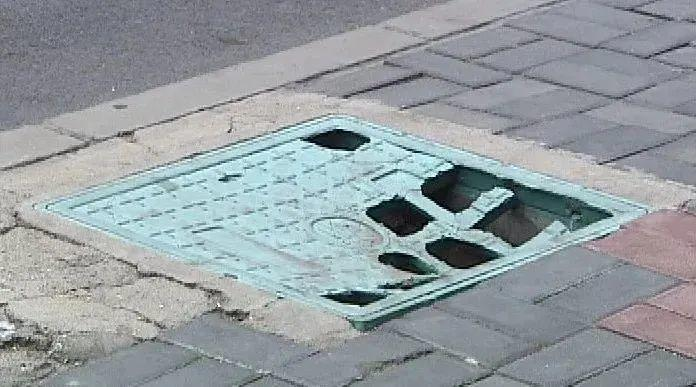broke: (35, 94, 653, 334)
